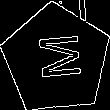M_W: (30, 34, 83, 84)
